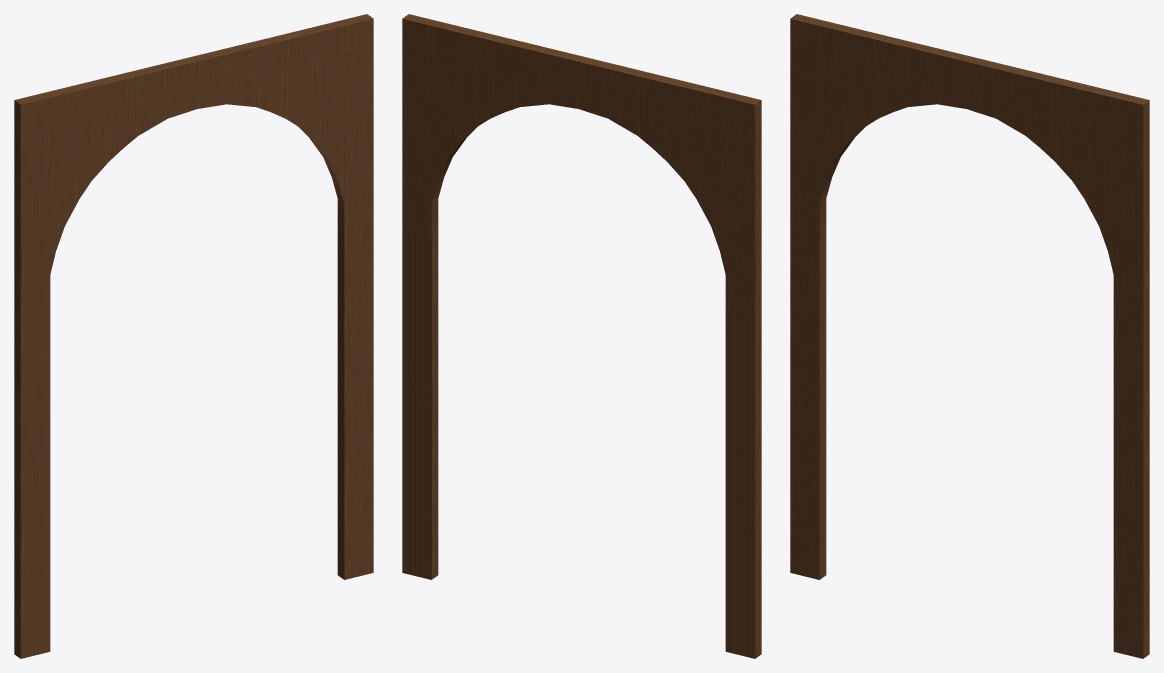
Rendered from wall_arch.gltf.
The picture shows the model from 3 angles, left to right: view 1: azimuth 30°, elevation 25°; view 2: azimuth 150°, elevation 25°; view 3: azimuth 330°, elevation 25°; orthographic projection.
Visible parts, largest first — view 1: Wall_Arch; view 2: Wall_Arch; view 3: Wall_Arch.
Part boxes in pixels (box(x1,y1,x2,y2)): Wall_Arch: box(14, 14, 373, 658); Wall_Arch: box(402, 14, 761, 658); Wall_Arch: box(790, 14, 1149, 658).
Bounding box in the file's own units: 2 × 3 × 0.064.
1 material, 1 textured.
